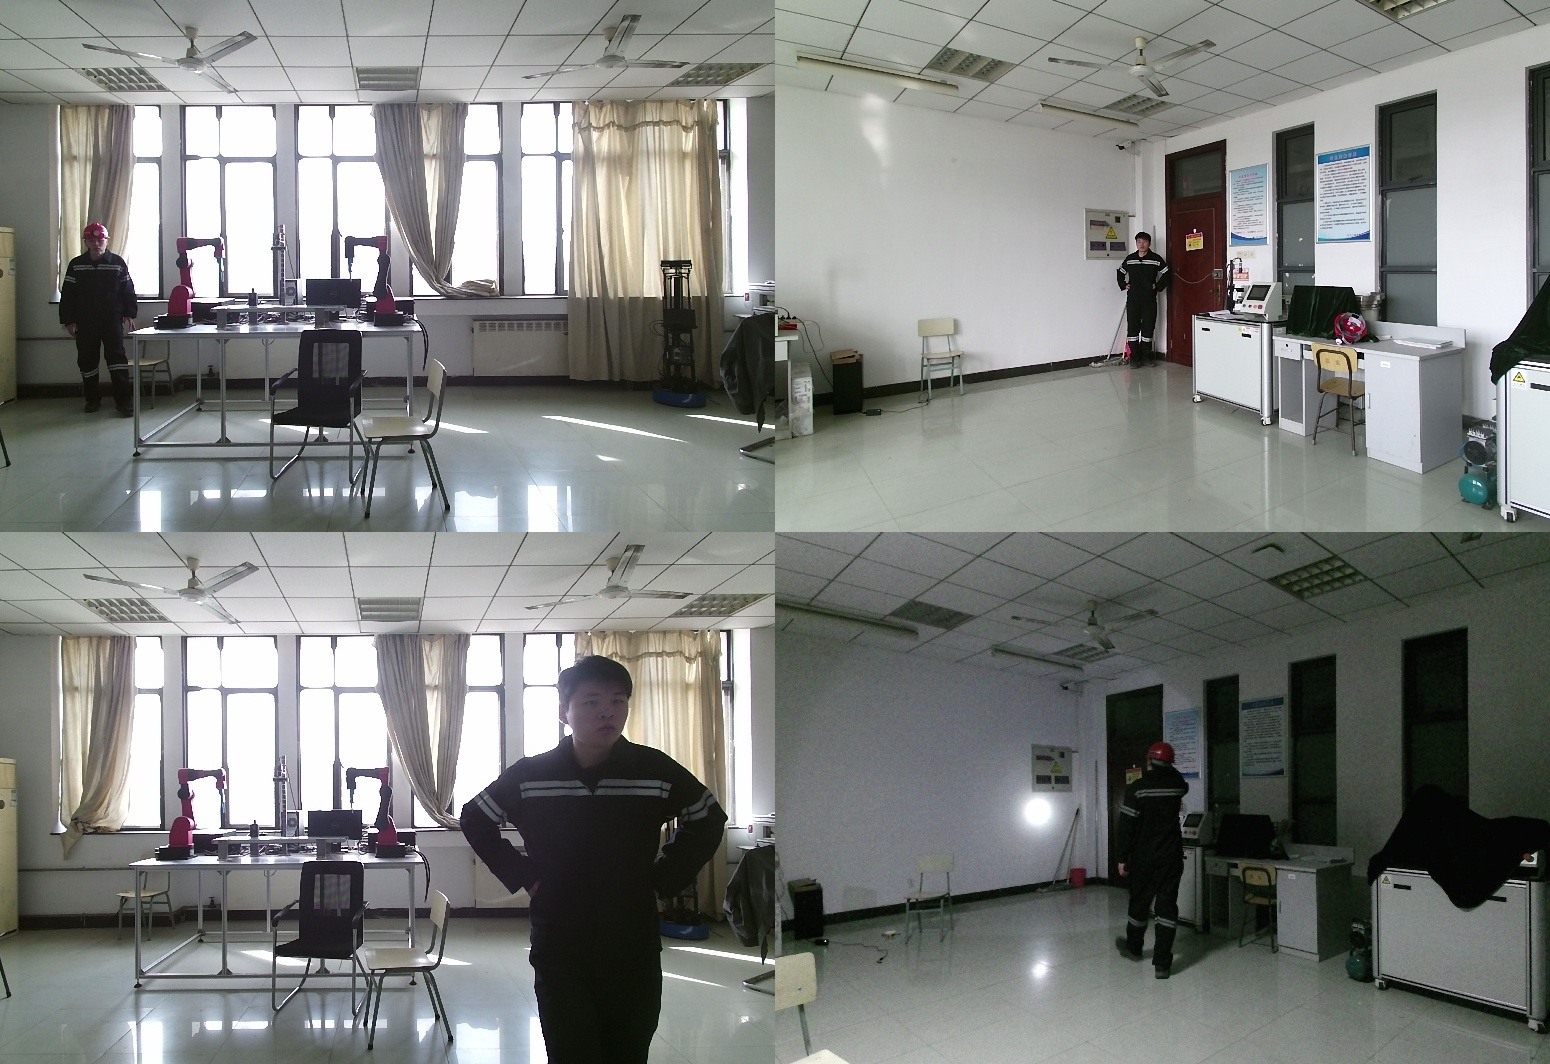person: (472, 660, 737, 1064), (1117, 741, 1200, 977), (57, 224, 137, 416), (1114, 232, 1171, 367)
